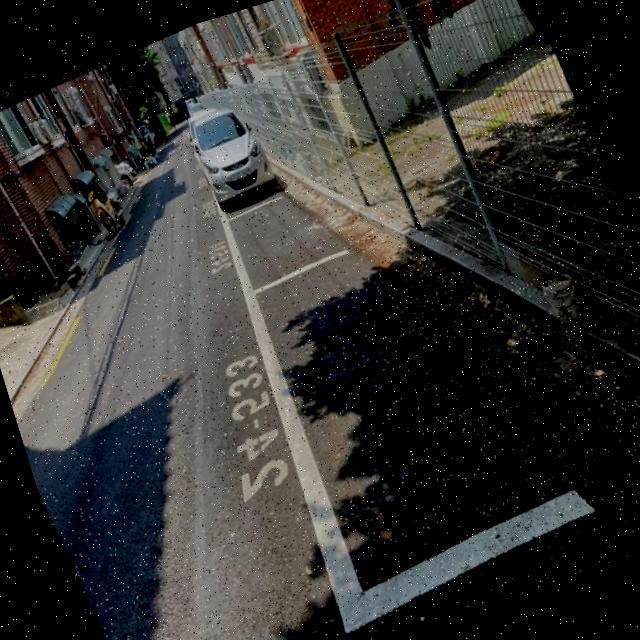empty: (241, 221, 549, 623), (213, 178, 343, 288)
occupied: (175, 94, 278, 208)
